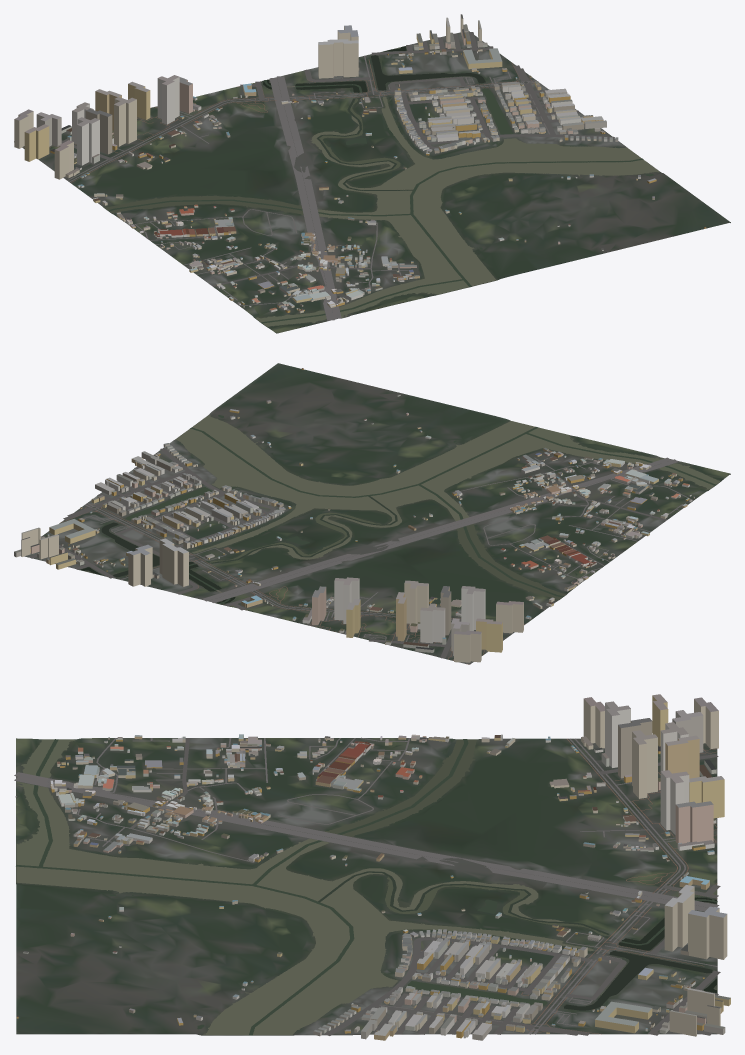
The picture shows the model from 3 angles, top to bottom: view 1: azimuth 30°, elevation 25°; view 2: azimuth 150°, elevation 25°; view 3: azimuth 270°, elevation 25°; orthographic projection. The views are drawn at different scales.
Visible parts, largest first — view 1: ground, buildings, water, roads; view 2: ground, buildings, water, roads; view 3: ground, buildings, water, roads.
Part boxes in pixels (x1,y1,x2,y2): ground: (14, 31, 730, 333); buildings: (14, 14, 706, 313); water: (105, 46, 659, 326); roads: (23, 32, 614, 320); ground: (24, 363, 730, 664); buildings: (14, 368, 694, 662); water: (80, 415, 720, 604); roads: (29, 448, 693, 664); ground: (16, 738, 717, 1035); buildings: (16, 694, 730, 1040); water: (16, 739, 717, 1035); roads: (14, 737, 720, 1035).
Size of the model in its own units: 1462 by 126 by 1432.
